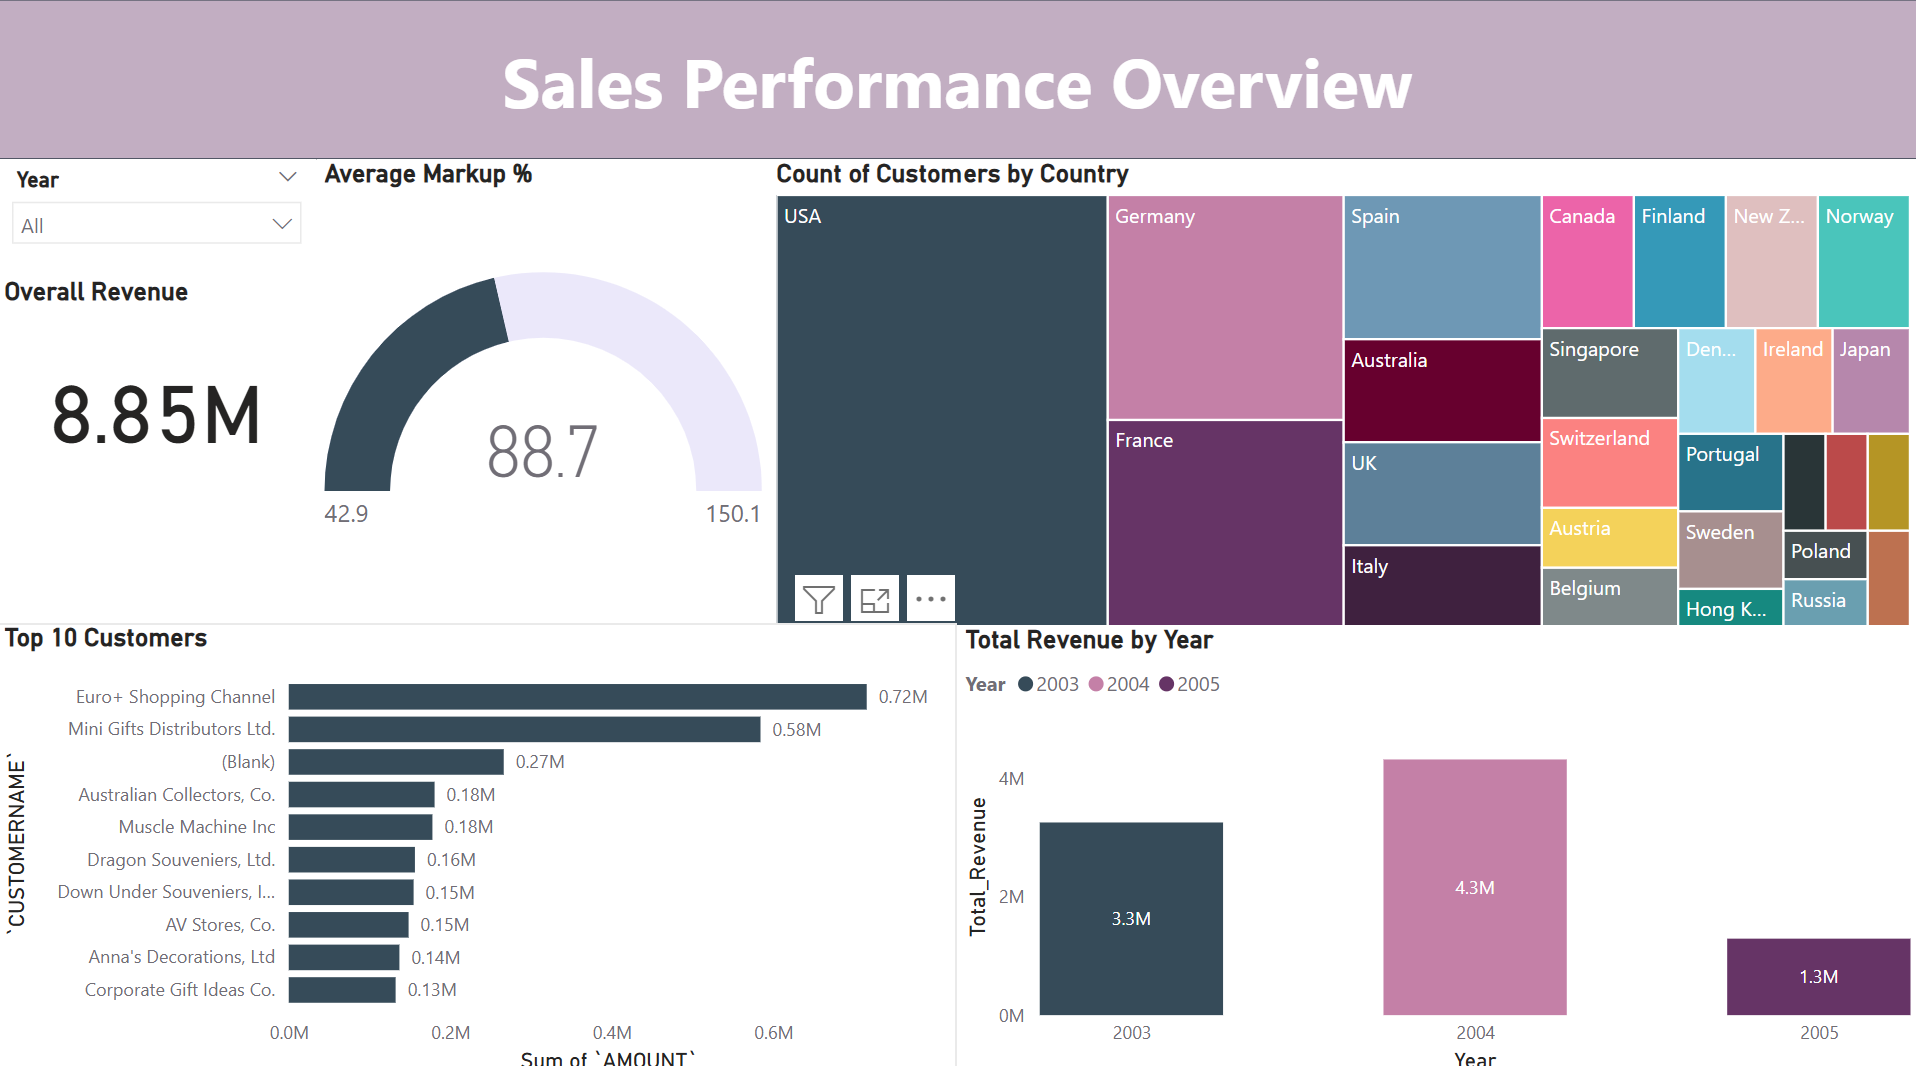

The dashboard page shown, as its layout file describes it:
{"tool":"powerbi","page":{"name":"Sales Performance Page","canvas":[1280,720],"ordinal":0},"visuals":[{"type":"shape","box":[0,0,1280,107.2],"z":0},{"type":"slicer","title":"Year","fields":{"Values":["`PAYMENTS`.`PAYMENTDATE`.Variation.Date Hierarchy.Year"]},"box":[0,107.2,212.8,78.1],"z":1000},{"type":"card","title":"Overall Revenue","fields":{"Values":["Important Measures Table.Total_Revenue"]},"box":[0,185.3,212.8,150],"z":2000},{"type":"gauge","title":"Average Markup %","fields":{"Y":["Avg(`PRODUCTS`.`MARKUP_PERCENTAGE`)"],"MinValue":["Min(`PRODUCTS`.`MARKUP_PERCENTAGE`)"],"MaxValue":["Max(`PRODUCTS`.`MARKUP_PERCENTAGE`)"]},"box":[212.8,107.2,301.6,309.3],"z":3000},{"type":"treemap","title":"Count of Customers by Country","fields":{"Values":["Important Measures Table.Customer_Count"],"Group":["`CUSTOMERS`.`COUNTRY`","`CUSTOMERS`.`STATE`"]},"box":[515.1,107.1,764.9,317.5],"z":4000},{"type":"barChart","title":"Top 10 Customers","fields":{"Category":["`CUSTOMERS`.`CUSTOMERNAME`"],"Y":["Sum(`PAYMENTS`.`AMOUNT`)"]},"box":[0,416.5,640,304.7],"z":5000},{"type":"columnChart","title":"Total Revenue by Year ","fields":{"Y":["Important Measures Table.Total_Revenue"],"Category":["`PAYMENTS`.`PAYMENTDATE`.Variation.Date Hierarchy.Year","`PAYMENTS`.`PAYMENTDATE`.Variation.Date Hierarchy.Month"],"Series":["`PAYMENTS`.`PAYMENTDATE`.Variation.Date Hierarchy.Year"]},"box":[640,416.9,640,303.4],"z":6000}]}

Visuals, with their boxes in screenshot pixels (x1, y1, x2, y2), scaled from the page's 1280x720 canvas onto the 1916x1066 screenshot:
shape: detection(0, 0, 1915, 159)
"Year" slicer: detection(0, 159, 319, 274)
"Overall Revenue" card: detection(0, 274, 319, 496)
"Average Markup %" gauge: detection(319, 159, 770, 617)
"Count of Customers by Country" treemap: detection(771, 159, 1915, 629)
"Top 10 Customers" barChart: detection(0, 617, 958, 1065)
"Total Revenue by Year " columnChart: detection(958, 617, 1915, 1065)
